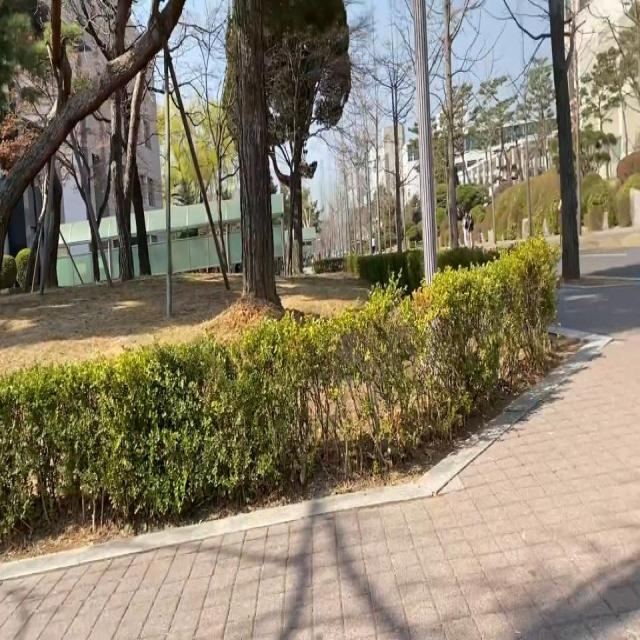sidewalk: (0, 283, 640, 639)
